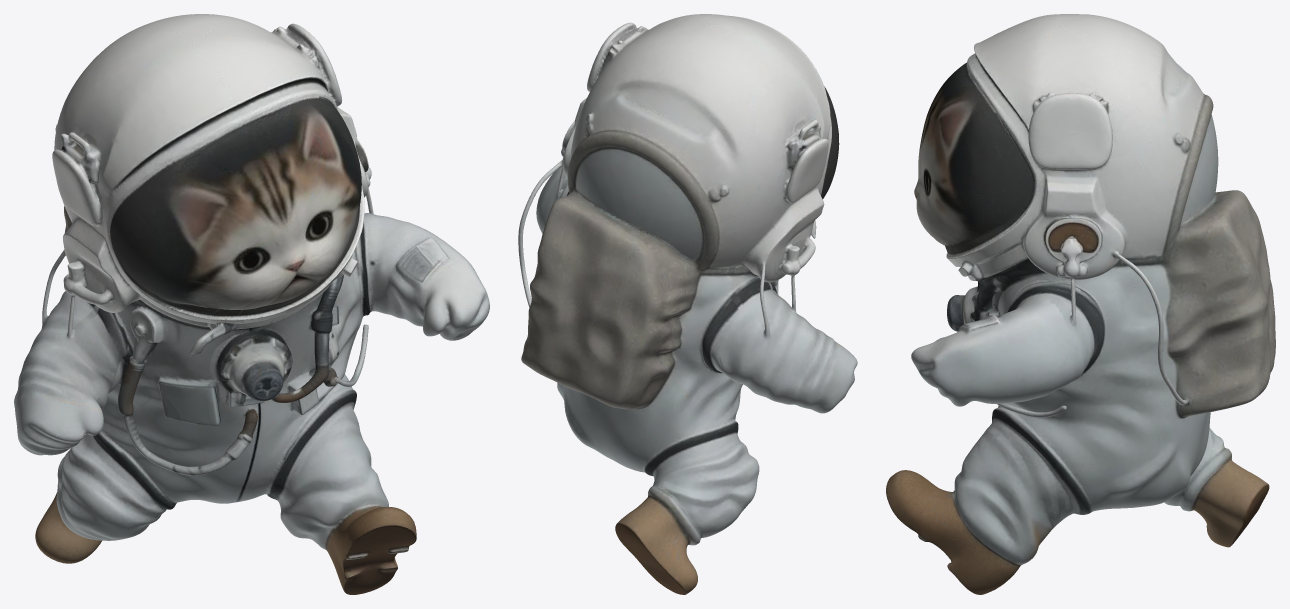
Rendered from cat_legendary.glb.
3 renders of one model, left to right at view 1: azimuth 30°, elevation 25°; view 2: azimuth 150°, elevation 25°; view 3: azimuth 270°, elevation 25°, orthographic. The views are drawn at different scales.
Parts seen in each view (by area): view 1: mesh_node; view 2: mesh_node; view 3: mesh_node.
Part boxes in pixels (box(x1,y1,x2,y2)): mesh_node: box(14, 14, 489, 594); mesh_node: box(518, 14, 857, 594); mesh_node: box(886, 14, 1275, 594).
Size of the model in its own units: 1.35 by 1.9 by 1.24.
Materials: 1 (1 with a texture image).
